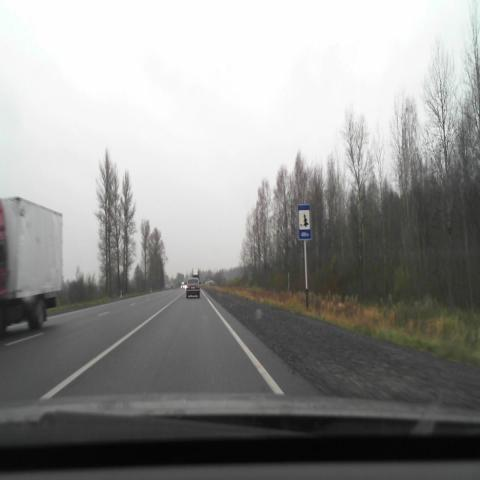7_11: (298, 204, 312, 240)
